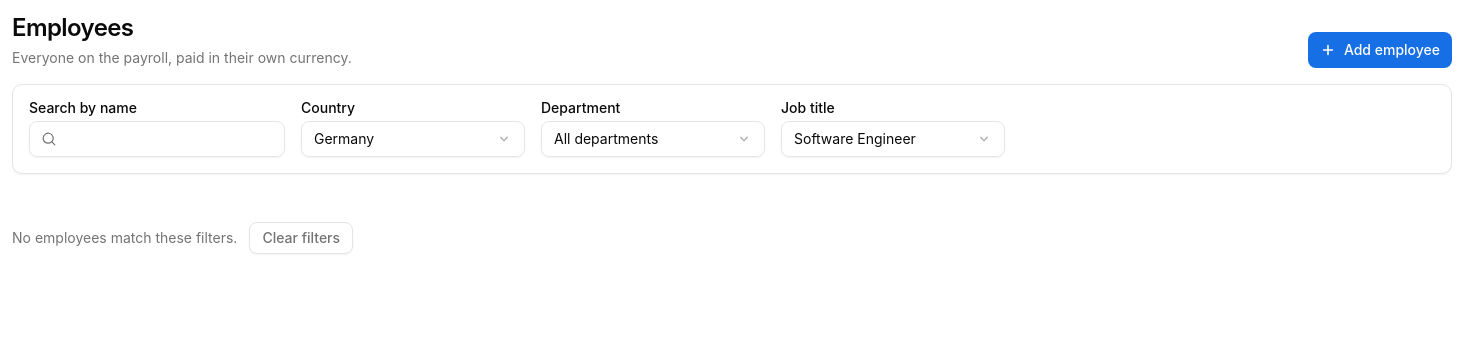
it: EmployeesPage › says when nothing matches and clears the filters on request
This screenshot has width=1464, height=359.
Expected: the text "No employees match these filters." is shown, [12,228,237,248]
Click the button "Clear filters": click(301, 238) [249,222,353,254]
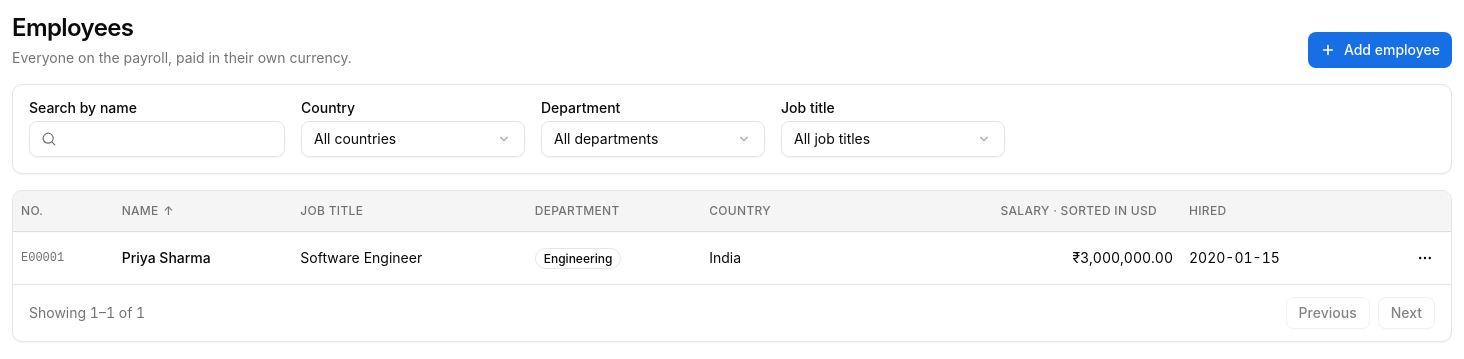
Now the row "E00001" is shown, box [13,231,1451,284]
